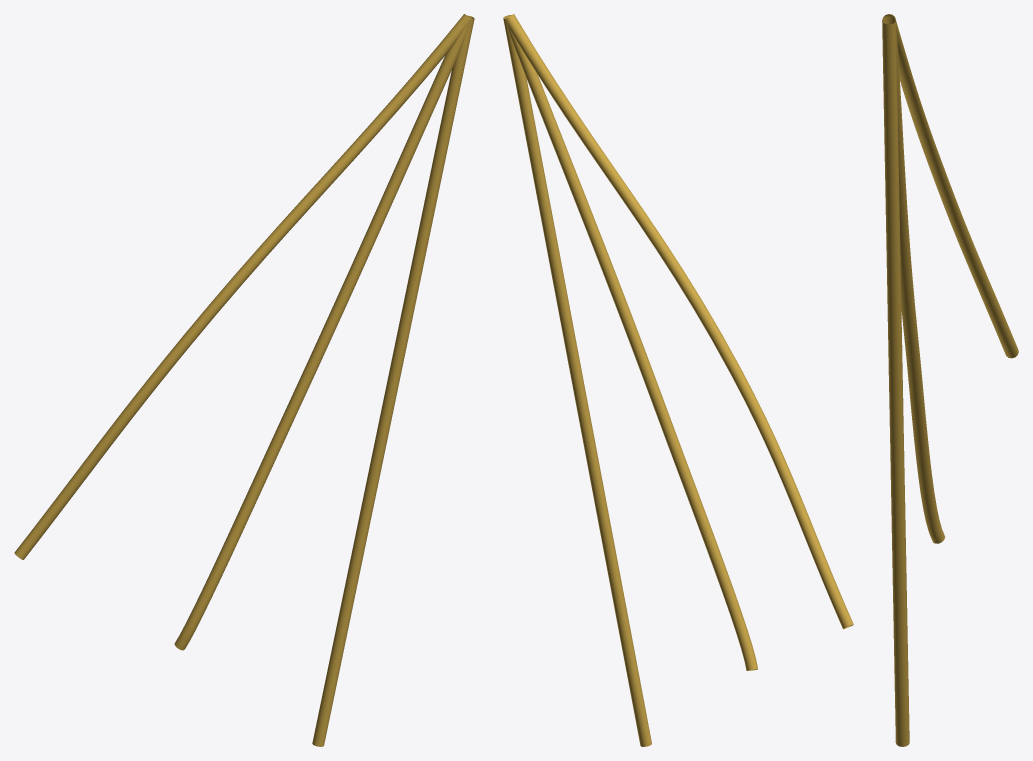
The picture shows the model from 3 angles, left to right: view 1: azimuth 30°, elevation 25°; view 2: azimuth 150°, elevation 25°; view 3: azimuth 270°, elevation 25°; orthographic projection. The views are drawn at different scales.
Parts seen in each view (by area): view 1: 右侧足底外侧神经趾足底总神经; view 2: 右侧足底外侧神经趾足底总神经; view 3: 右侧足底外侧神经趾足底总神经.
Part boxes in pixels (<box>): 右侧足底外侧神经趾足底总神经: <box>14,14,474,746</box>; 右侧足底外侧神经趾足底总神经: <box>503,14,853,746</box>; 右侧足底外侧神经趾足底总神经: <box>882,14,1018,746</box>.
Size of the model in its own units: 0.0574 by 0.0947 by 0.0145.
